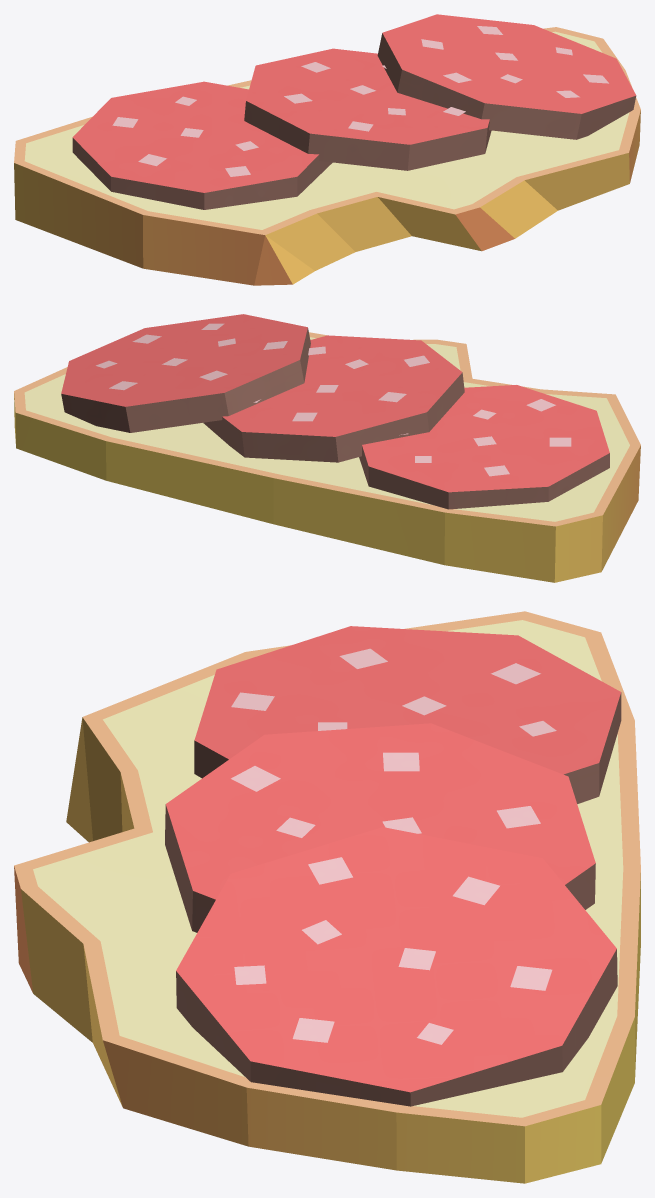
Rendered from sandwich_001.glb.
The picture shows the model from 3 angles, top to bottom: view 1: azimuth 30°, elevation 25°; view 2: azimuth 150°, elevation 25°; view 3: azimuth 270°, elevation 25°; orthographic projection. The views are drawn at different scales.
Visible parts, largest first — view 1: sandwich_001; view 2: sandwich_001; view 3: sandwich_001.
Part boxes in pixels (x1,y1,x2,y2): sandwich_001: (14, 14, 640, 285); sandwich_001: (14, 314, 640, 582); sandwich_001: (14, 611, 640, 1183).
Bounding box in the file's own units: 0.1395 × 0.022 × 0.0766.
Materials: 1 (1 with a texture image).
